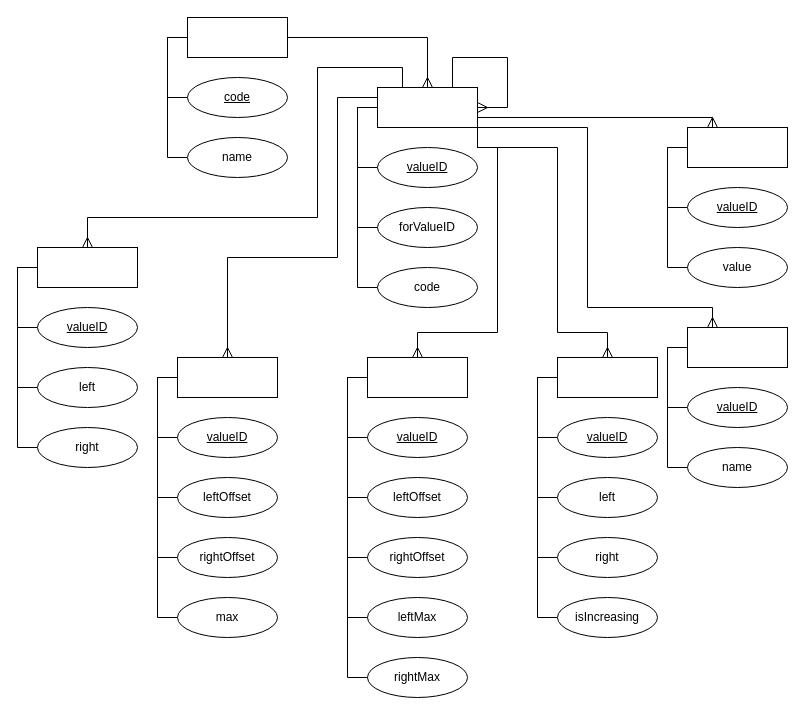
This 805x715 diagram has some shape labels left out. Each missing label, with the box of its shape:
Crisp: (686, 126, 788, 168)
FuzzyShoulder: (556, 356, 658, 398)
FuzzyType: (186, 16, 288, 58)
FuzzyValue: (376, 86, 478, 128)
Interval: (36, 246, 138, 288)
LinguisticLabel: (686, 326, 788, 368)
TrapezoidalFN: (366, 356, 468, 398)
TriangularFN: (176, 356, 278, 398)
